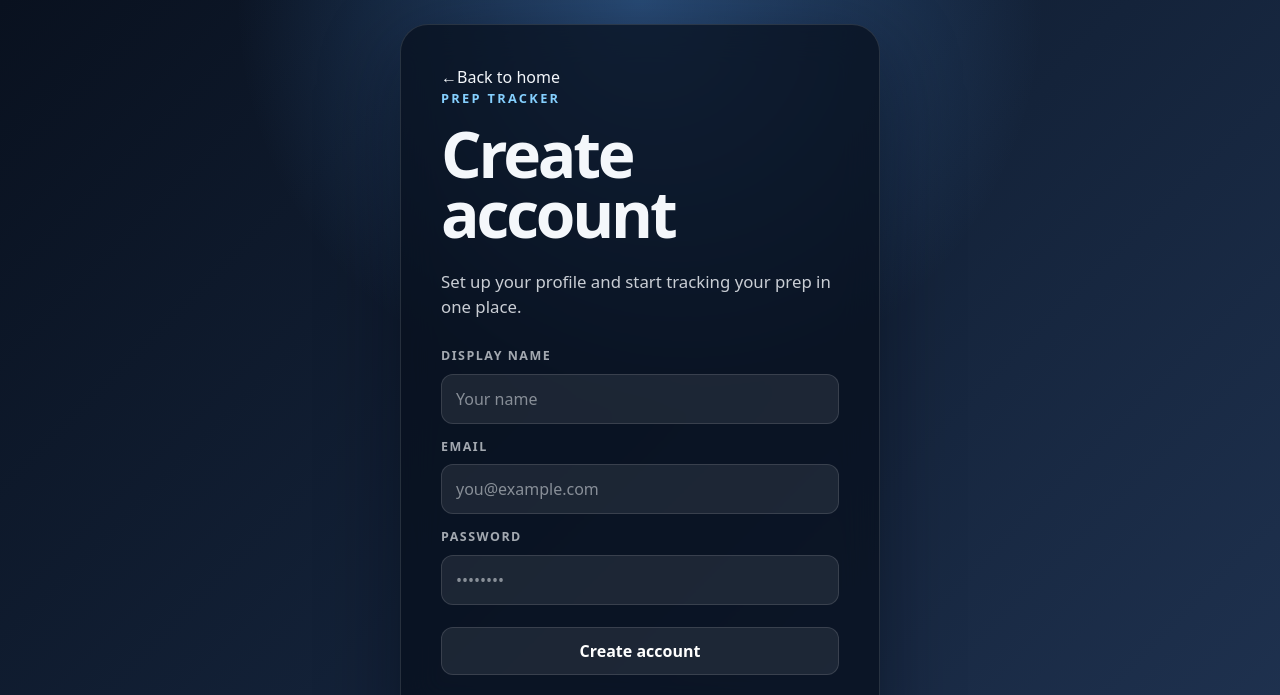
Test case: RegisterForm › shows API errors when registration fails
Type "New User" into the field labelled "Display name".
click(640, 399); type("New User")  # box [441,374,839,424]
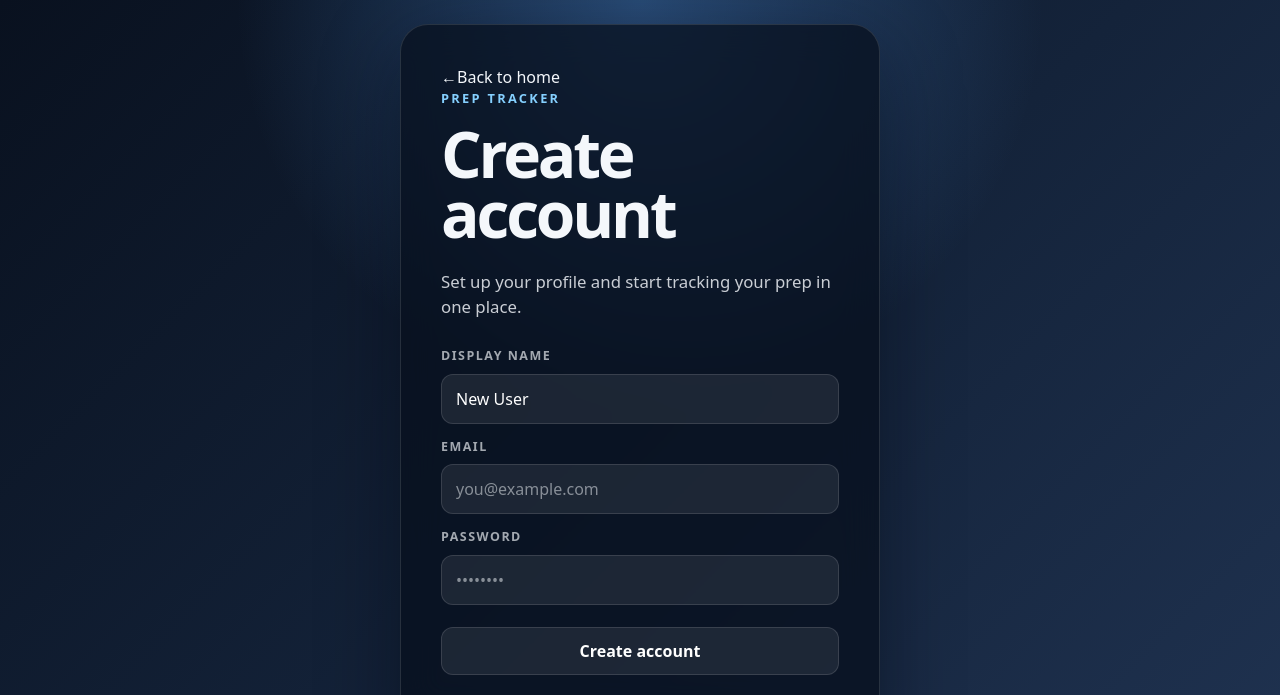
Type "user@example.com" into the field labelled "Email".
click(640, 489); type("user@example.com")  # box [441,464,839,514]
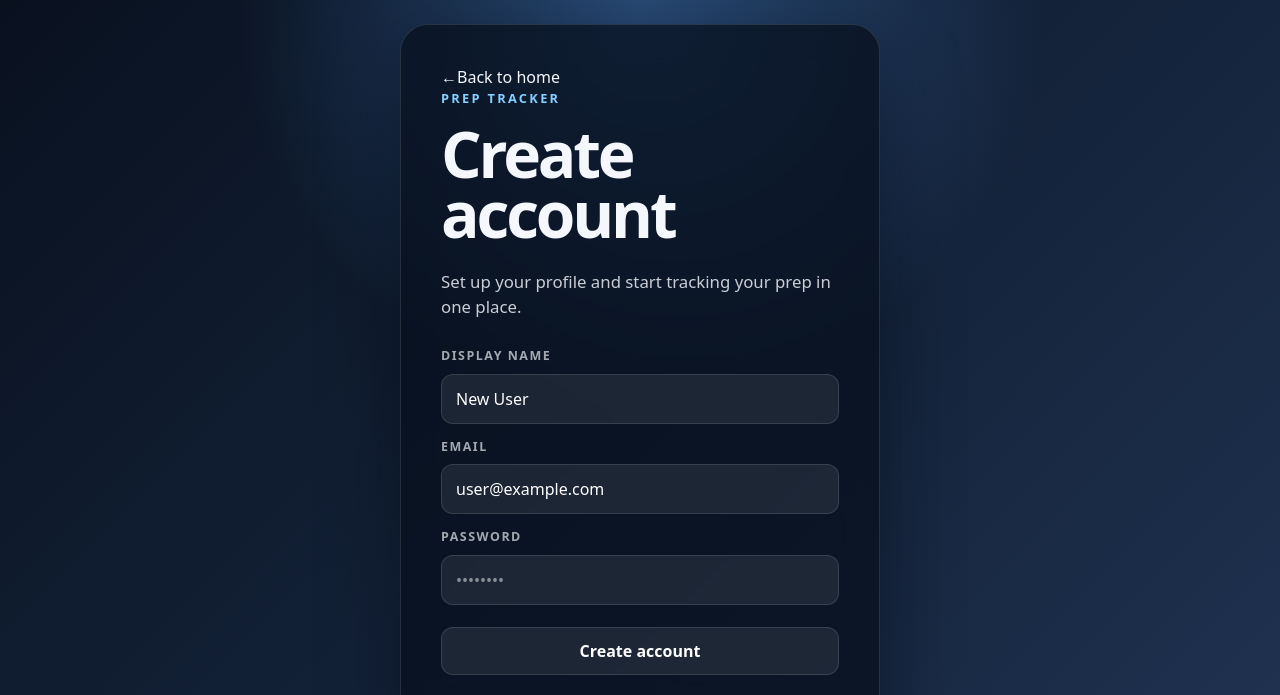
Type "password123" into the password field labelled "Password".
click(640, 580); type("password123")  # box [441,555,839,605]
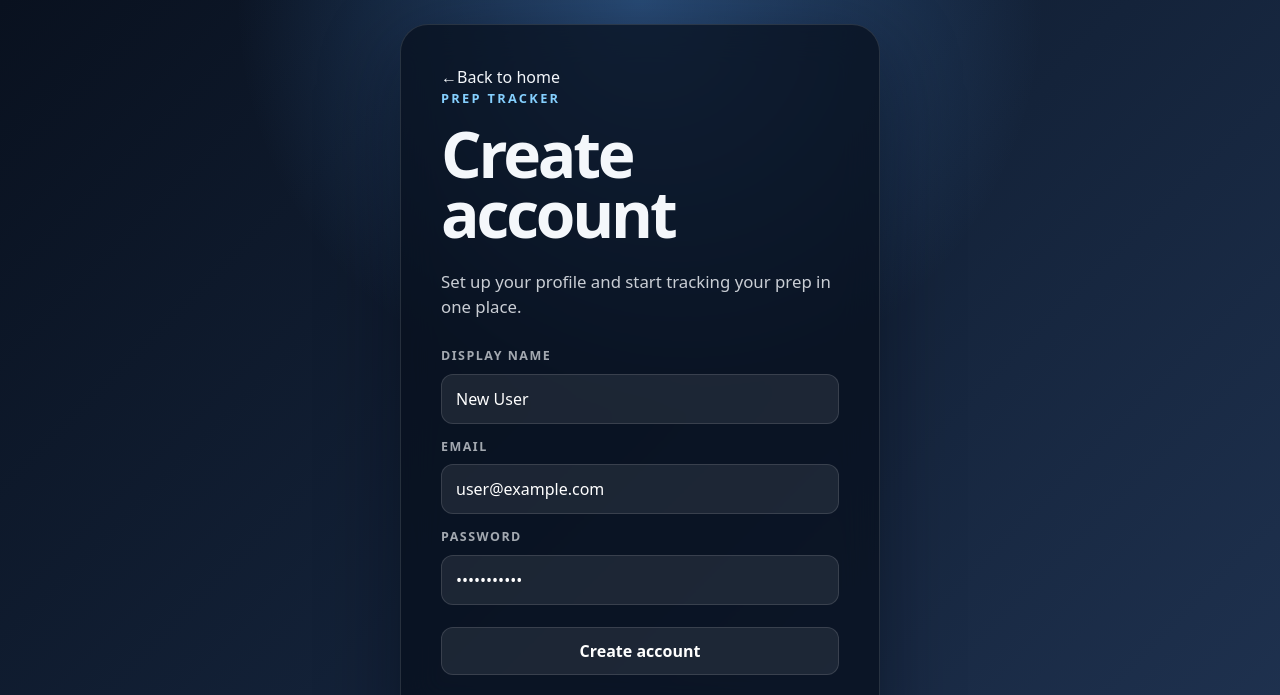
Click the button "Create account".
click(640, 651)  # box [441,627,839,675]
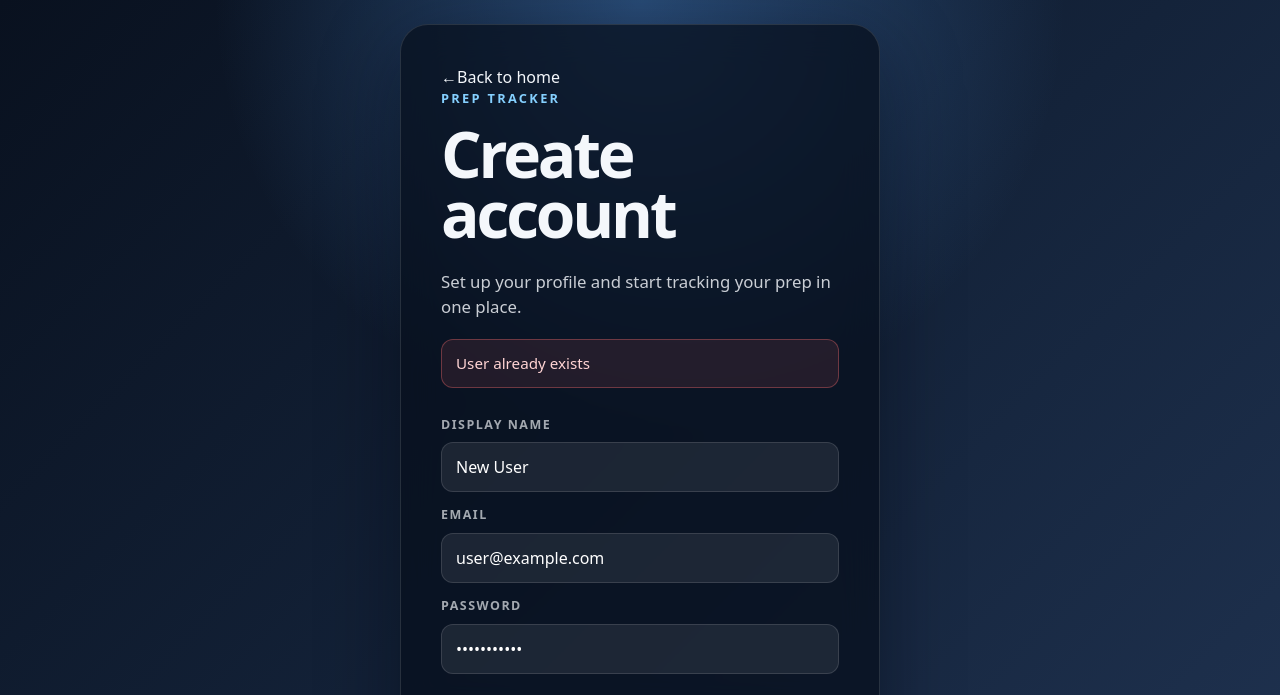
Expected: the message reads "User already exists", [456,353,590,373]
